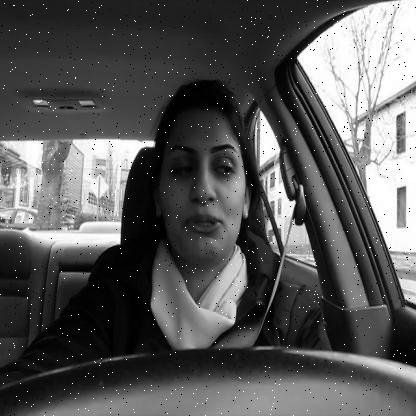seatbelt: (140, 39, 311, 349)
